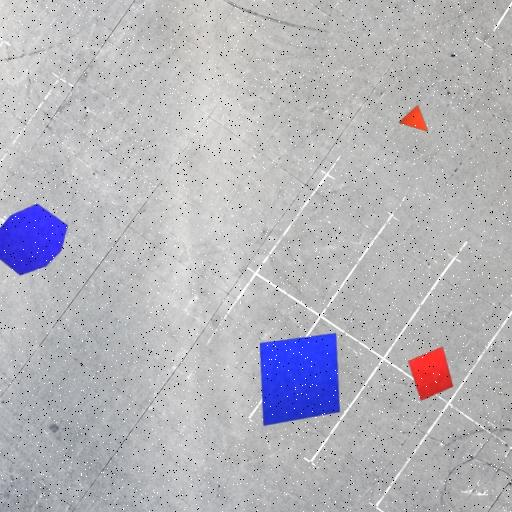BLUE_SQUARE: (259, 332, 341, 426)
RED_SQUARE: (408, 346, 454, 402)
